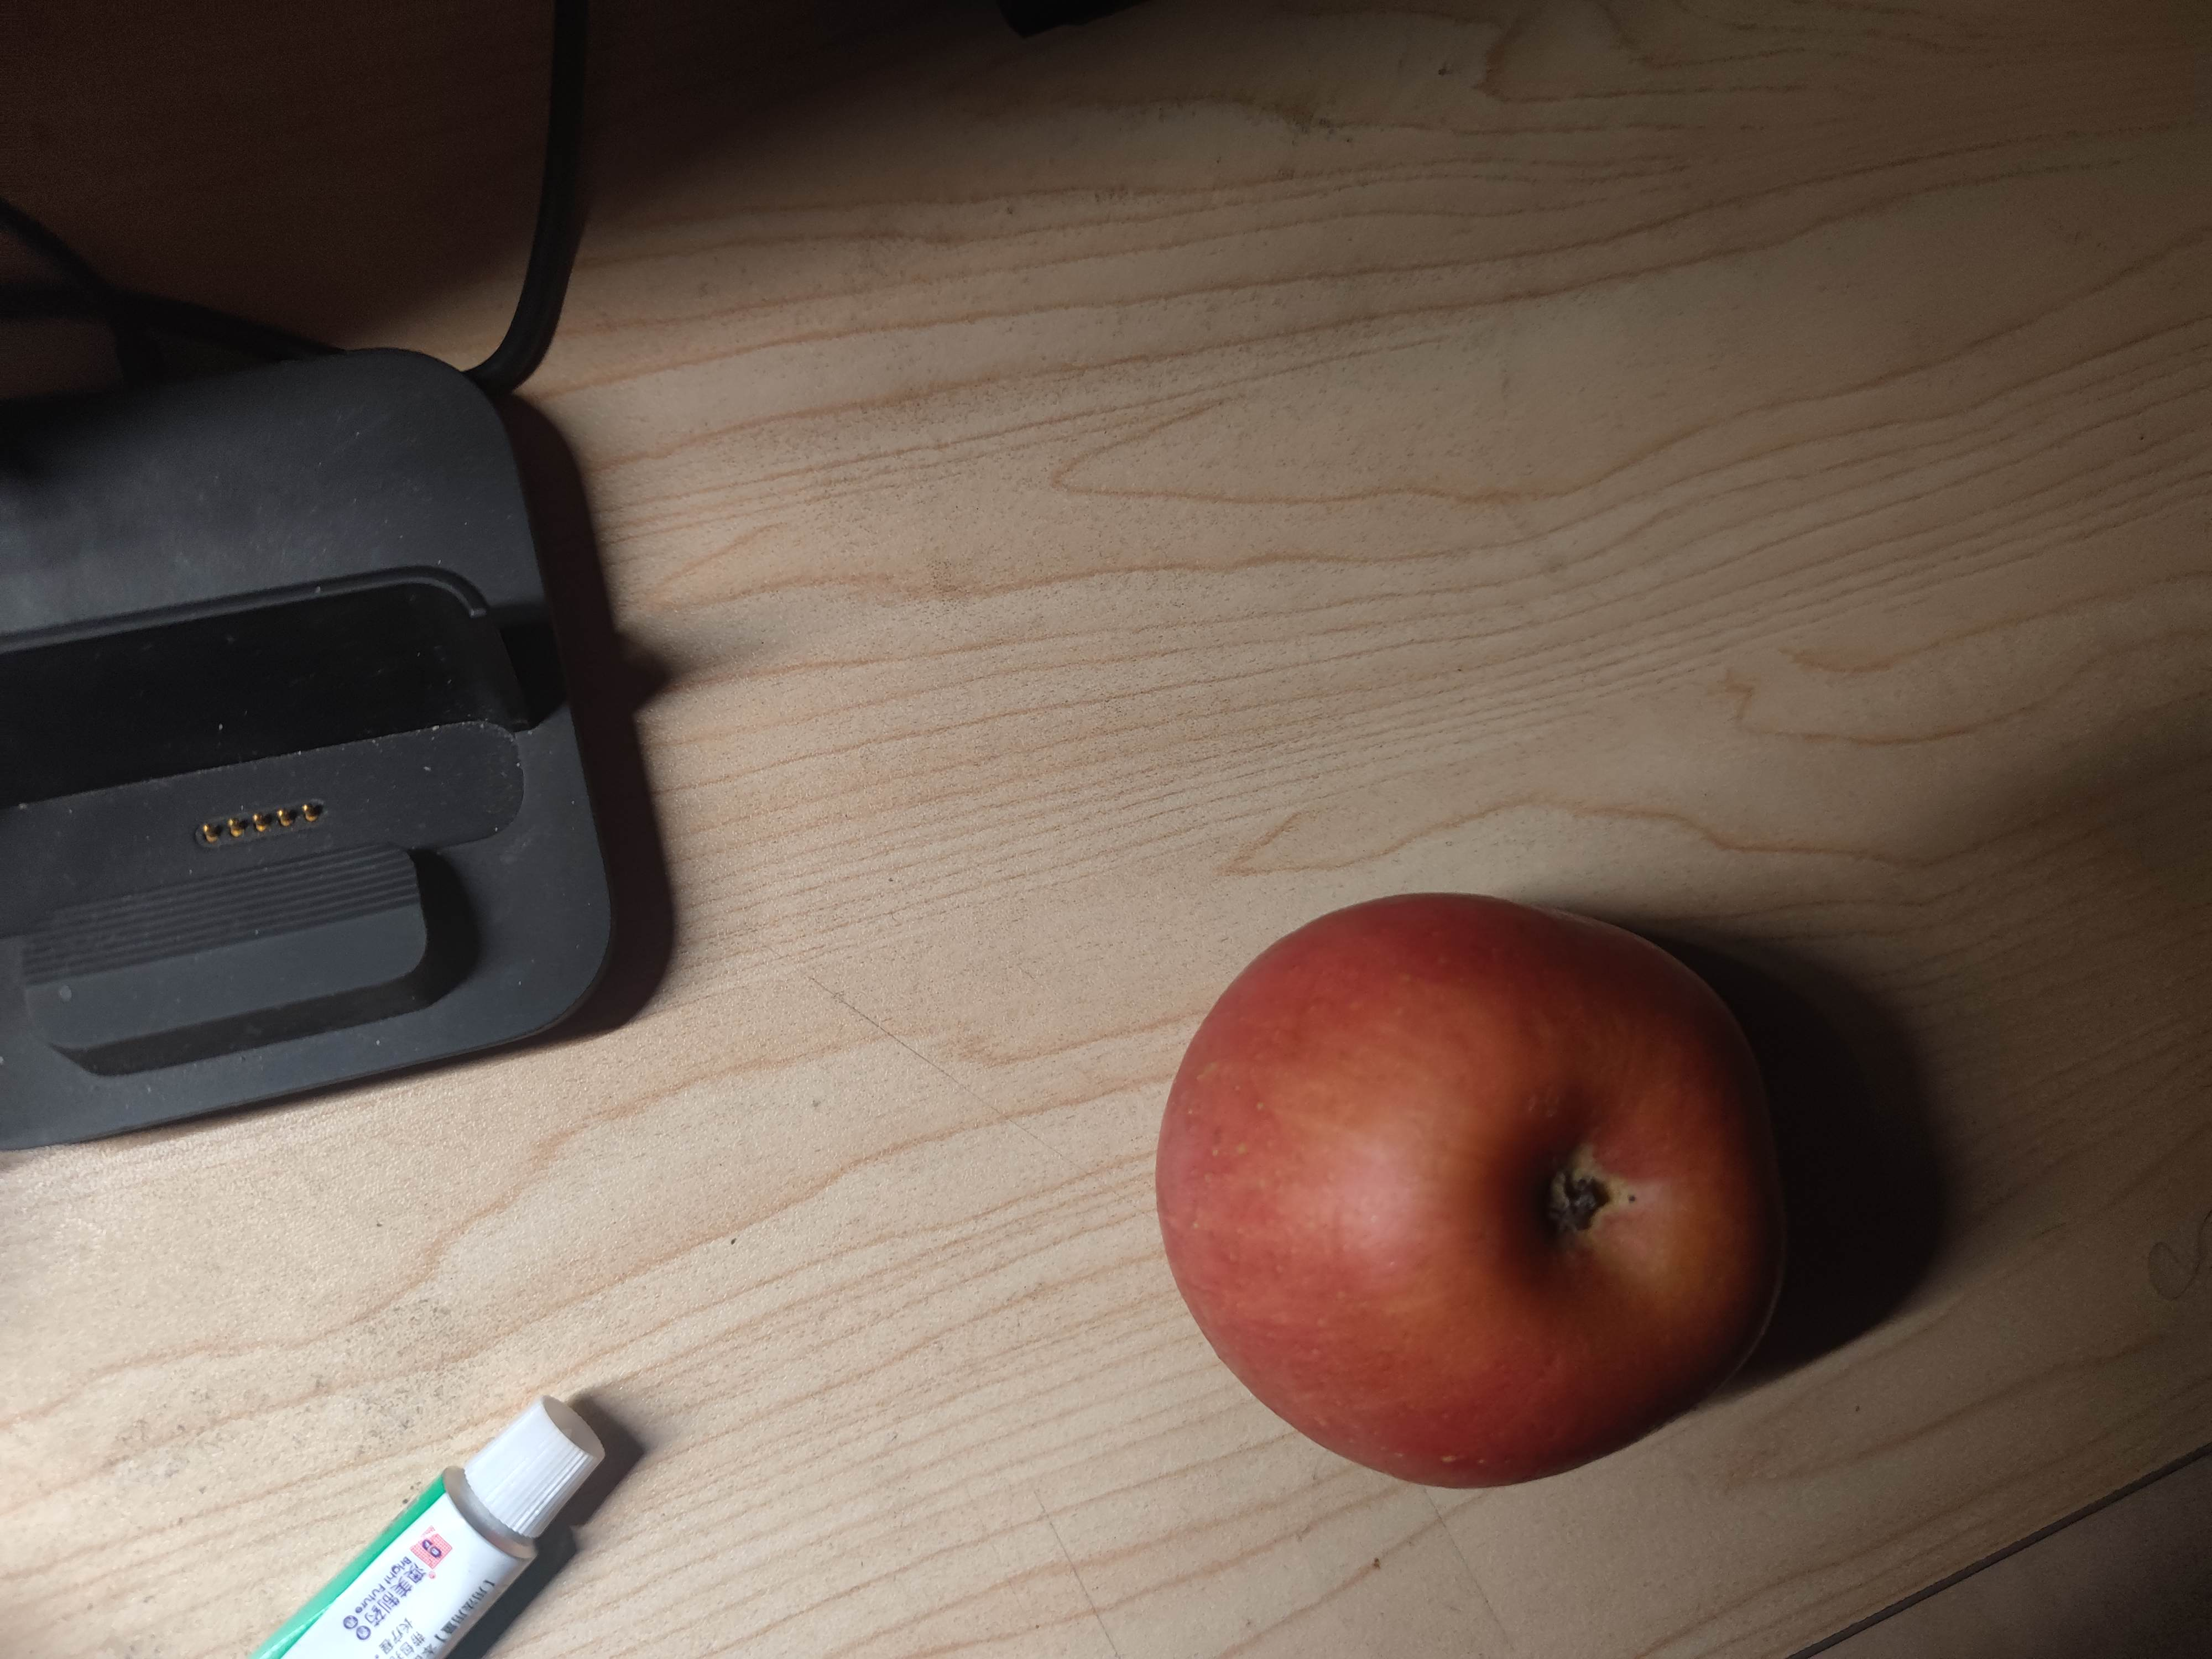apple: (1157, 887, 1803, 1492)
